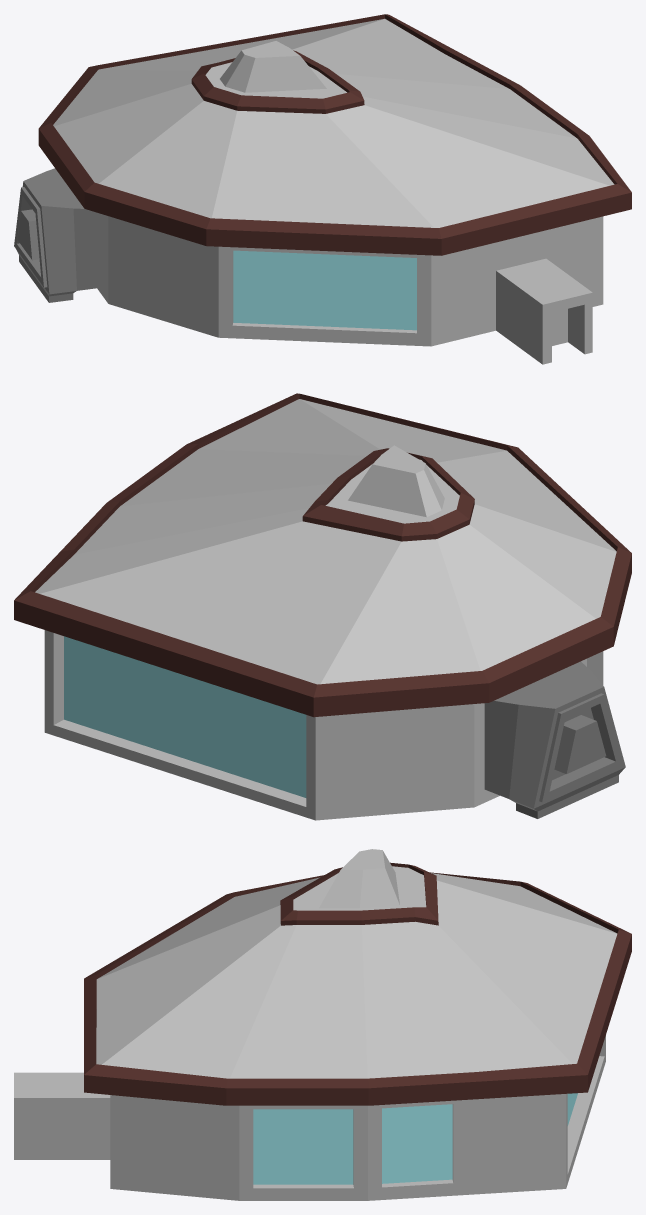
File: Building_02.fbx
3 views of the same model, one above another, from view 1: azimuth 30°, elevation 25°; view 2: azimuth 150°, elevation 25°; view 3: azimuth 270°, elevation 25° (orthographic). The views are drawn at different scales.
Visible parts, largest first — view 1: Building_02; view 2: Building_02; view 3: Building_02.
Boxes of the visible parts, bbox=[...] form: Building_02: bbox=[14, 14, 631, 364]; Building_02: bbox=[14, 393, 631, 820]; Building_02: bbox=[14, 849, 631, 1200].
Size of the model in its own units: 1892 by 841 by 2120.
